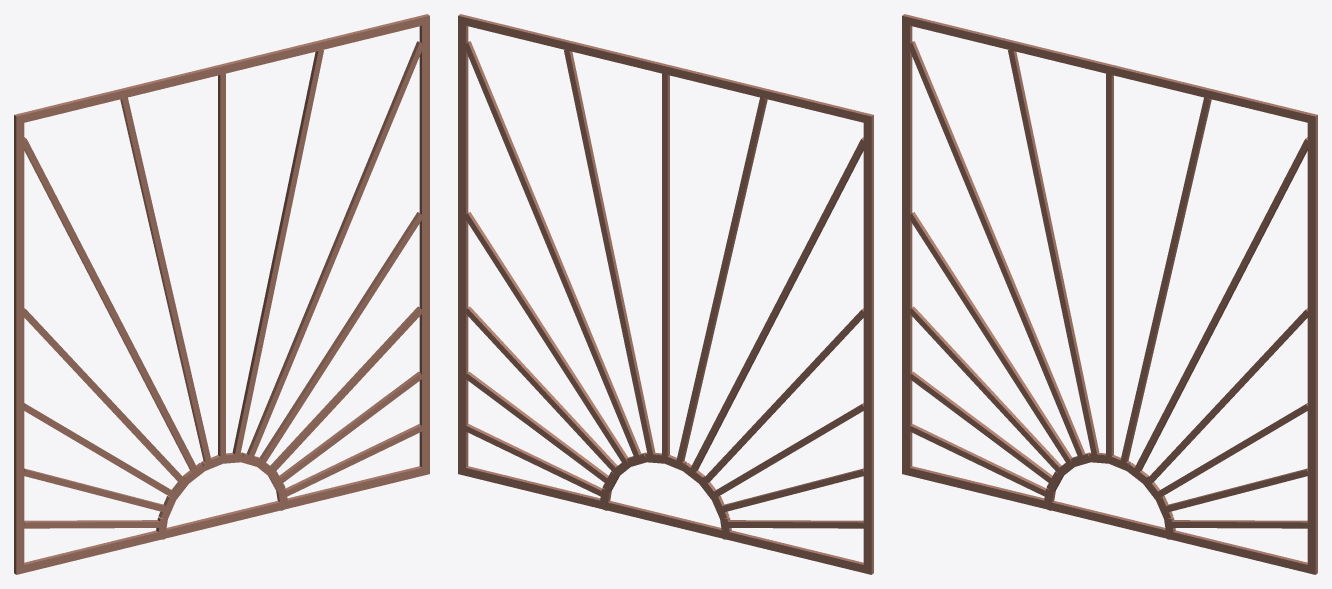
The model's file is window-grille-sunburst.glb.
The picture shows the model from 3 angles, left to right: view 1: azimuth 30°, elevation 25°; view 2: azimuth 150°, elevation 25°; view 3: azimuth 330°, elevation 25°; orthographic projection.
Parts seen in each view (by area): view 1: window-grille-sunburst; view 2: window-grille-sunburst; view 3: window-grille-sunburst.
Boxes of the visible parts, x1,y1,x2,y2 form: window-grille-sunburst: (14,14,429,574); window-grille-sunburst: (458,14,873,574); window-grille-sunburst: (902,14,1317,574).
Bounding box in the file's own units: 1.6 × 1.7 × 0.016.
